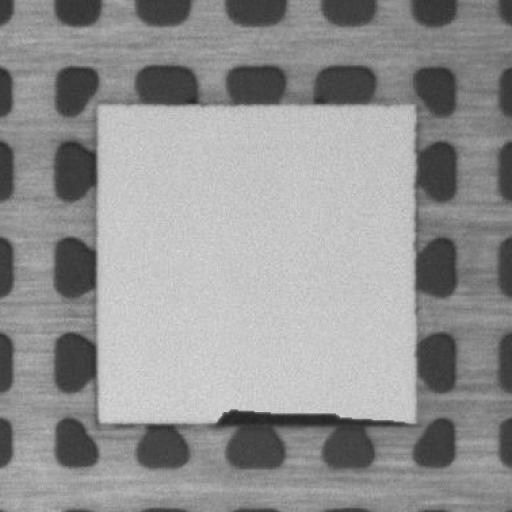DIE_BROKEN: (207, 403, 416, 431)
